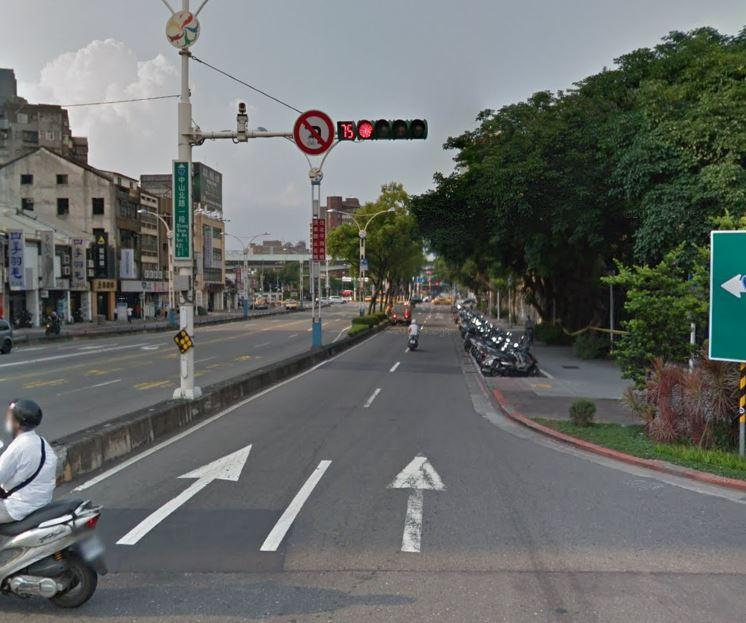red_traffic_light: (336, 118, 427, 140)
